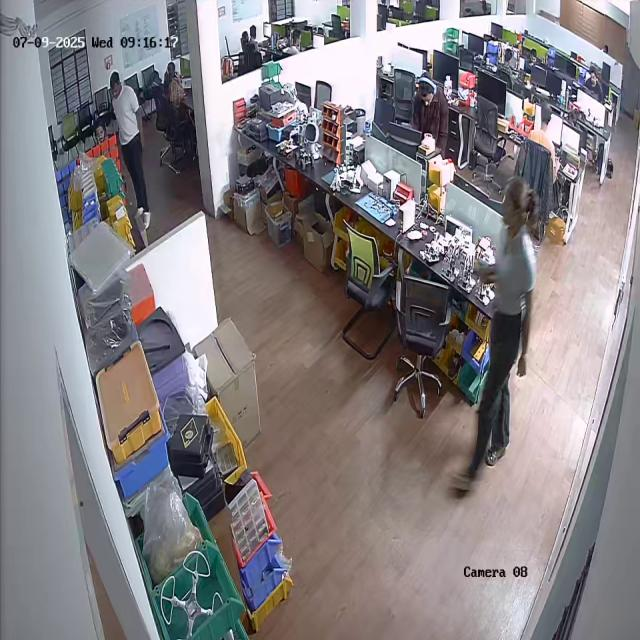person: (449, 178, 538, 503), (104, 71, 151, 229)
